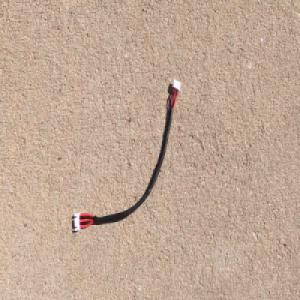Wire: (72, 76, 182, 235)
